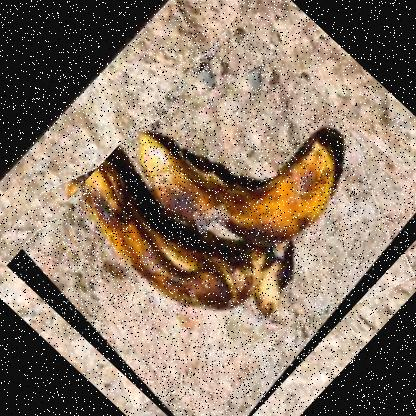banana_rotten: (4, 14, 415, 415)
